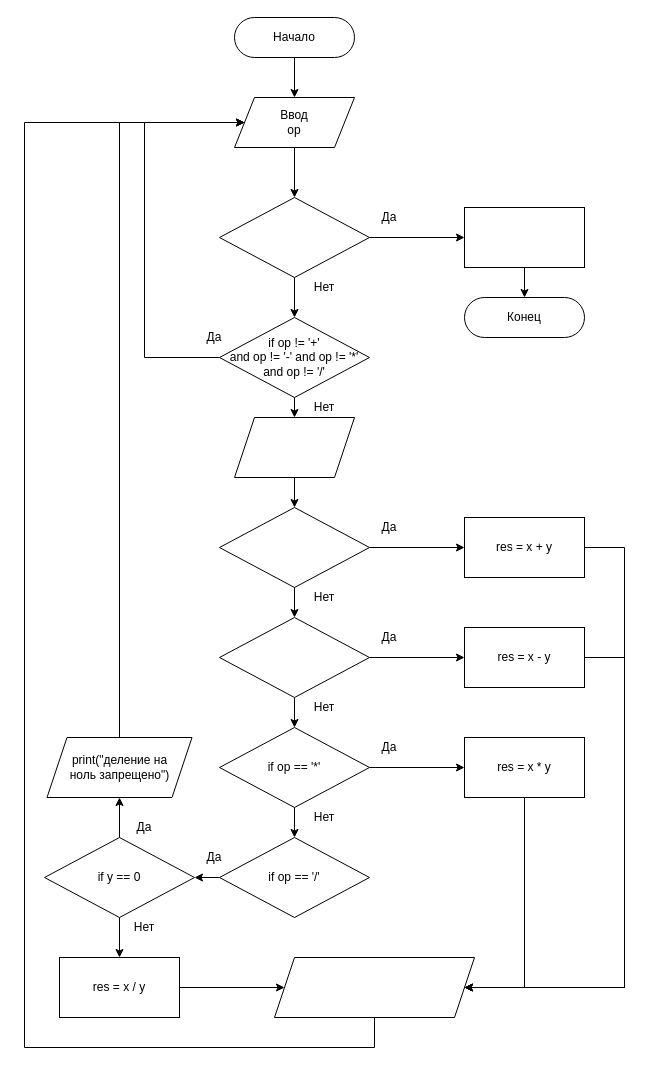
Image size: 650x1073. Some labels were removed from this diagram. Each missing label, with the centre of its shape:
if op == '+': (x=294, y=547)
if op == '-': (x=294, y=657)
if op == '0': (x=294, y=237)
Ввод x, y: (x=294, y=447)
Вывод print(f"{x} {op} {y} = {res}"): (x=374, y=987)
Выход: (x=524, y=237)
